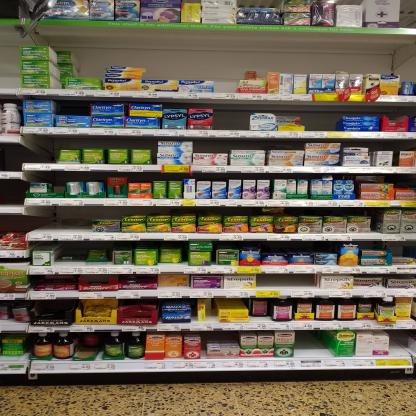Void: (34, 207, 90, 230), (66, 136, 148, 148), (305, 107, 338, 131), (269, 241, 340, 252), (237, 139, 301, 151), (216, 106, 247, 127), (301, 332, 330, 353), (31, 139, 55, 164), (57, 100, 94, 115), (262, 278, 312, 288), (203, 332, 236, 345), (196, 138, 226, 152), (4, 146, 20, 170), (393, 332, 409, 356), (394, 174, 412, 189), (5, 183, 18, 203)
